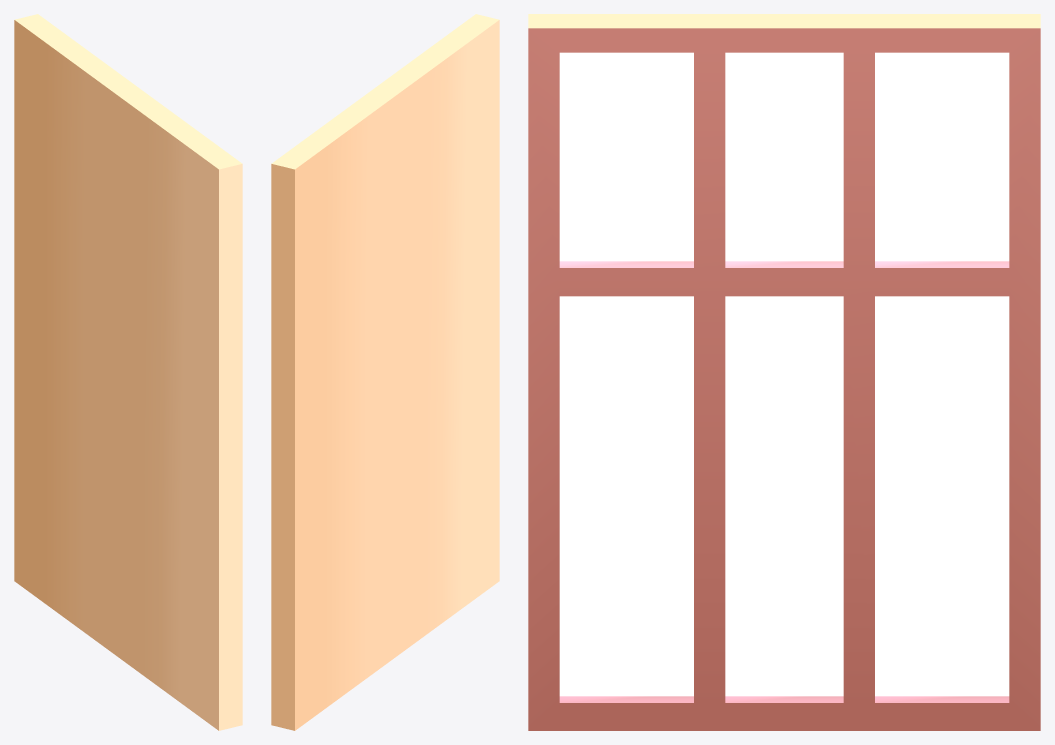
The model's file is cutepack2023window01 1.fbx.
The picture shows the model from 3 angles, left to right: view 1: azimuth 30°, elevation 25°; view 2: azimuth 150°, elevation 25°; view 3: azimuth 270°, elevation 25°; orthographic projection. The views are drawn at different scales.
Visible parts, largest first — view 1: Cube.013; view 2: Cube.013; view 3: Cube.001, Cube.013.
Boxes of the visible parts, left/top/right/bottom form: Cube.013: left=14, top=14, right=242, bottom=730; Cube.013: left=271, top=14, right=499, bottom=730; Cube.001: left=559, top=52, right=1009, bottom=696; Cube.013: left=528, top=14, right=1040, bottom=730.
Size of the model in its own units: 13 by 295 by 195.
